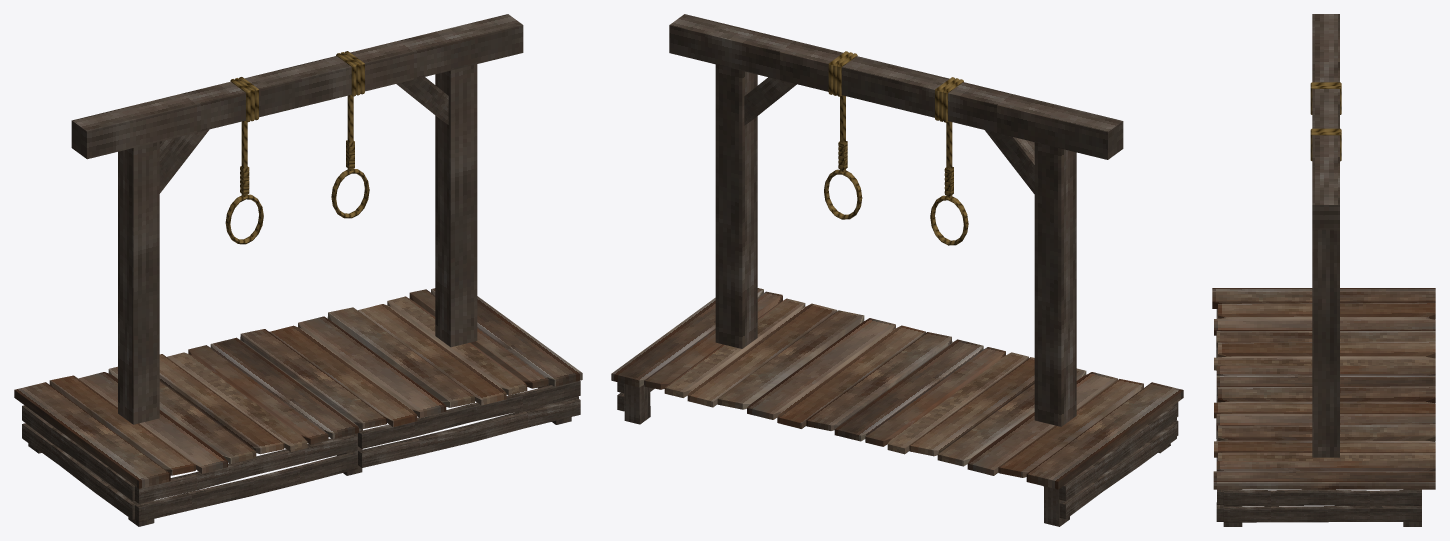
Rendered from Hanging_Block.fbx.
3 renders of one model, left to right at view 1: azimuth 30°, elevation 25°; view 2: azimuth 150°, elevation 25°; view 3: azimuth 270°, elevation 25°, orthographic. The views are drawn at different scales.
Visible parts, largest first — view 1: Hangman_Stand; view 2: Hangman_Stand; view 3: Hangman_Stand.
Part boxes in pixels (x1,y1,x2,y2): Hangman_Stand: (14,14,582,526); Hangman_Stand: (611,14,1183,526); Hangman_Stand: (1212,14,1435,526).
Size of the model in its own units: 423 by 327 by 204.
3 materials, 3 textured.
